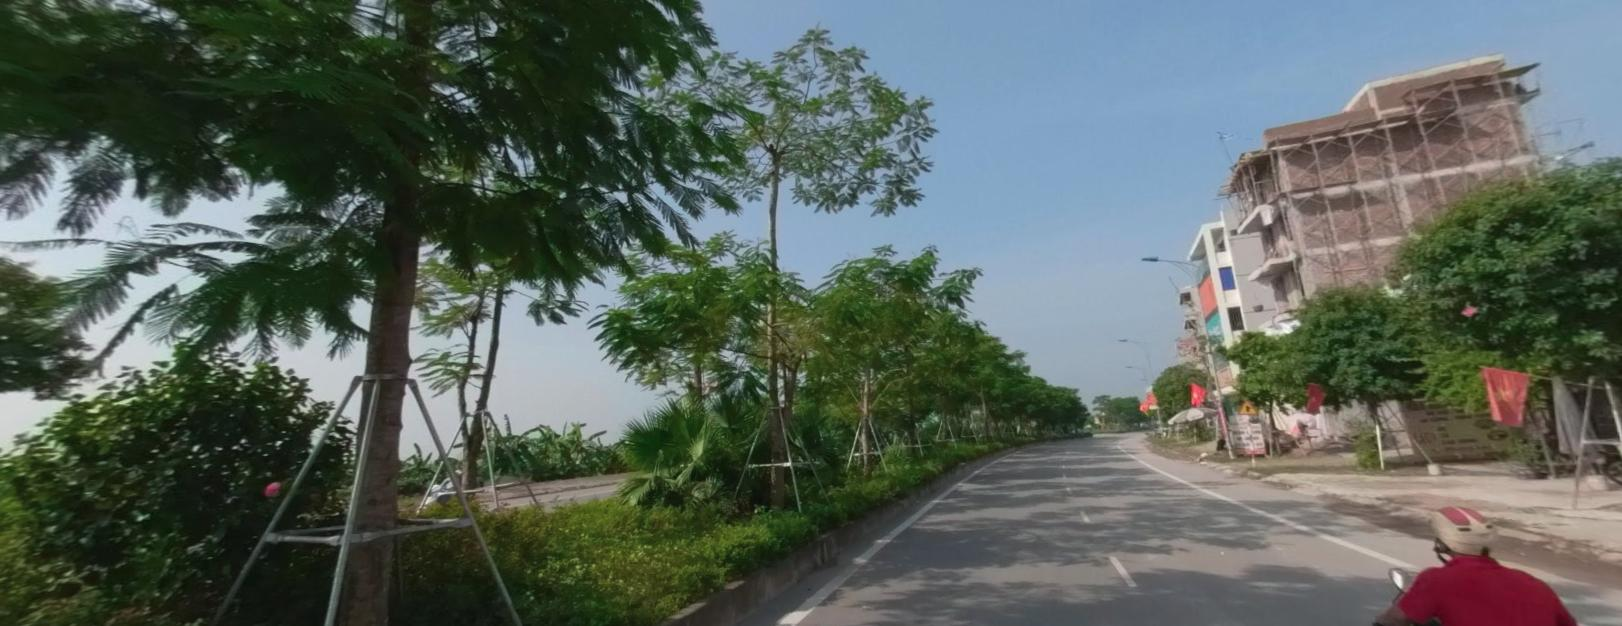Nguy hiem: (1238, 397, 1257, 413)
